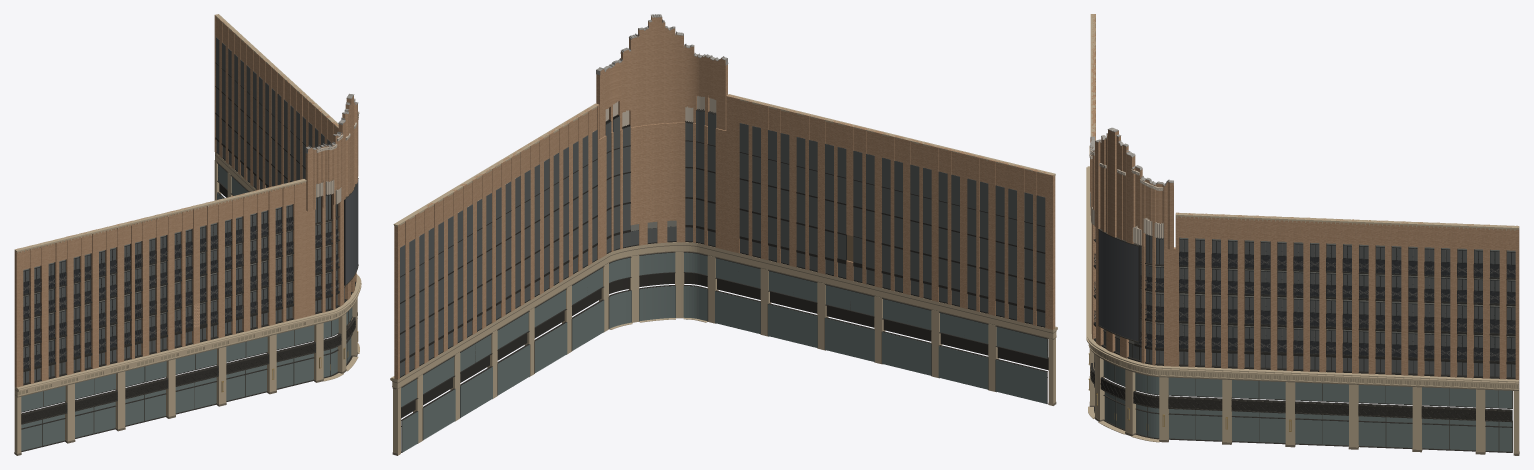
File: huangpu-old-jiefu-nanjing-road-shopfront-web.glb
3 renders of one model, left to right at view 1: azimuth 30°, elevation 25°; view 2: azimuth 150°, elevation 25°; view 3: azimuth 270°, elevation 25°, orthographic. The views are drawn at different scales.
Parts seen in each view (by area): view 1: 老介福北西街面与退台砖塔冠; view 2: 老介福北西街面与退台砖塔冠; view 3: 老介福北西街面与退台砖塔冠.
Part boxes in pixels (x1,y1,x2,y2): 老介福北西街面与退台砖塔冠: (14, 14, 361, 455); 老介福北西街面与退台砖塔冠: (390, 14, 1057, 455); 老介福北西街面与退台砖塔冠: (1086, 14, 1519, 455).
Bounding box in the file's own units: 55.98 × 36.11 × 47.45.
20 materials, 1 textured.
